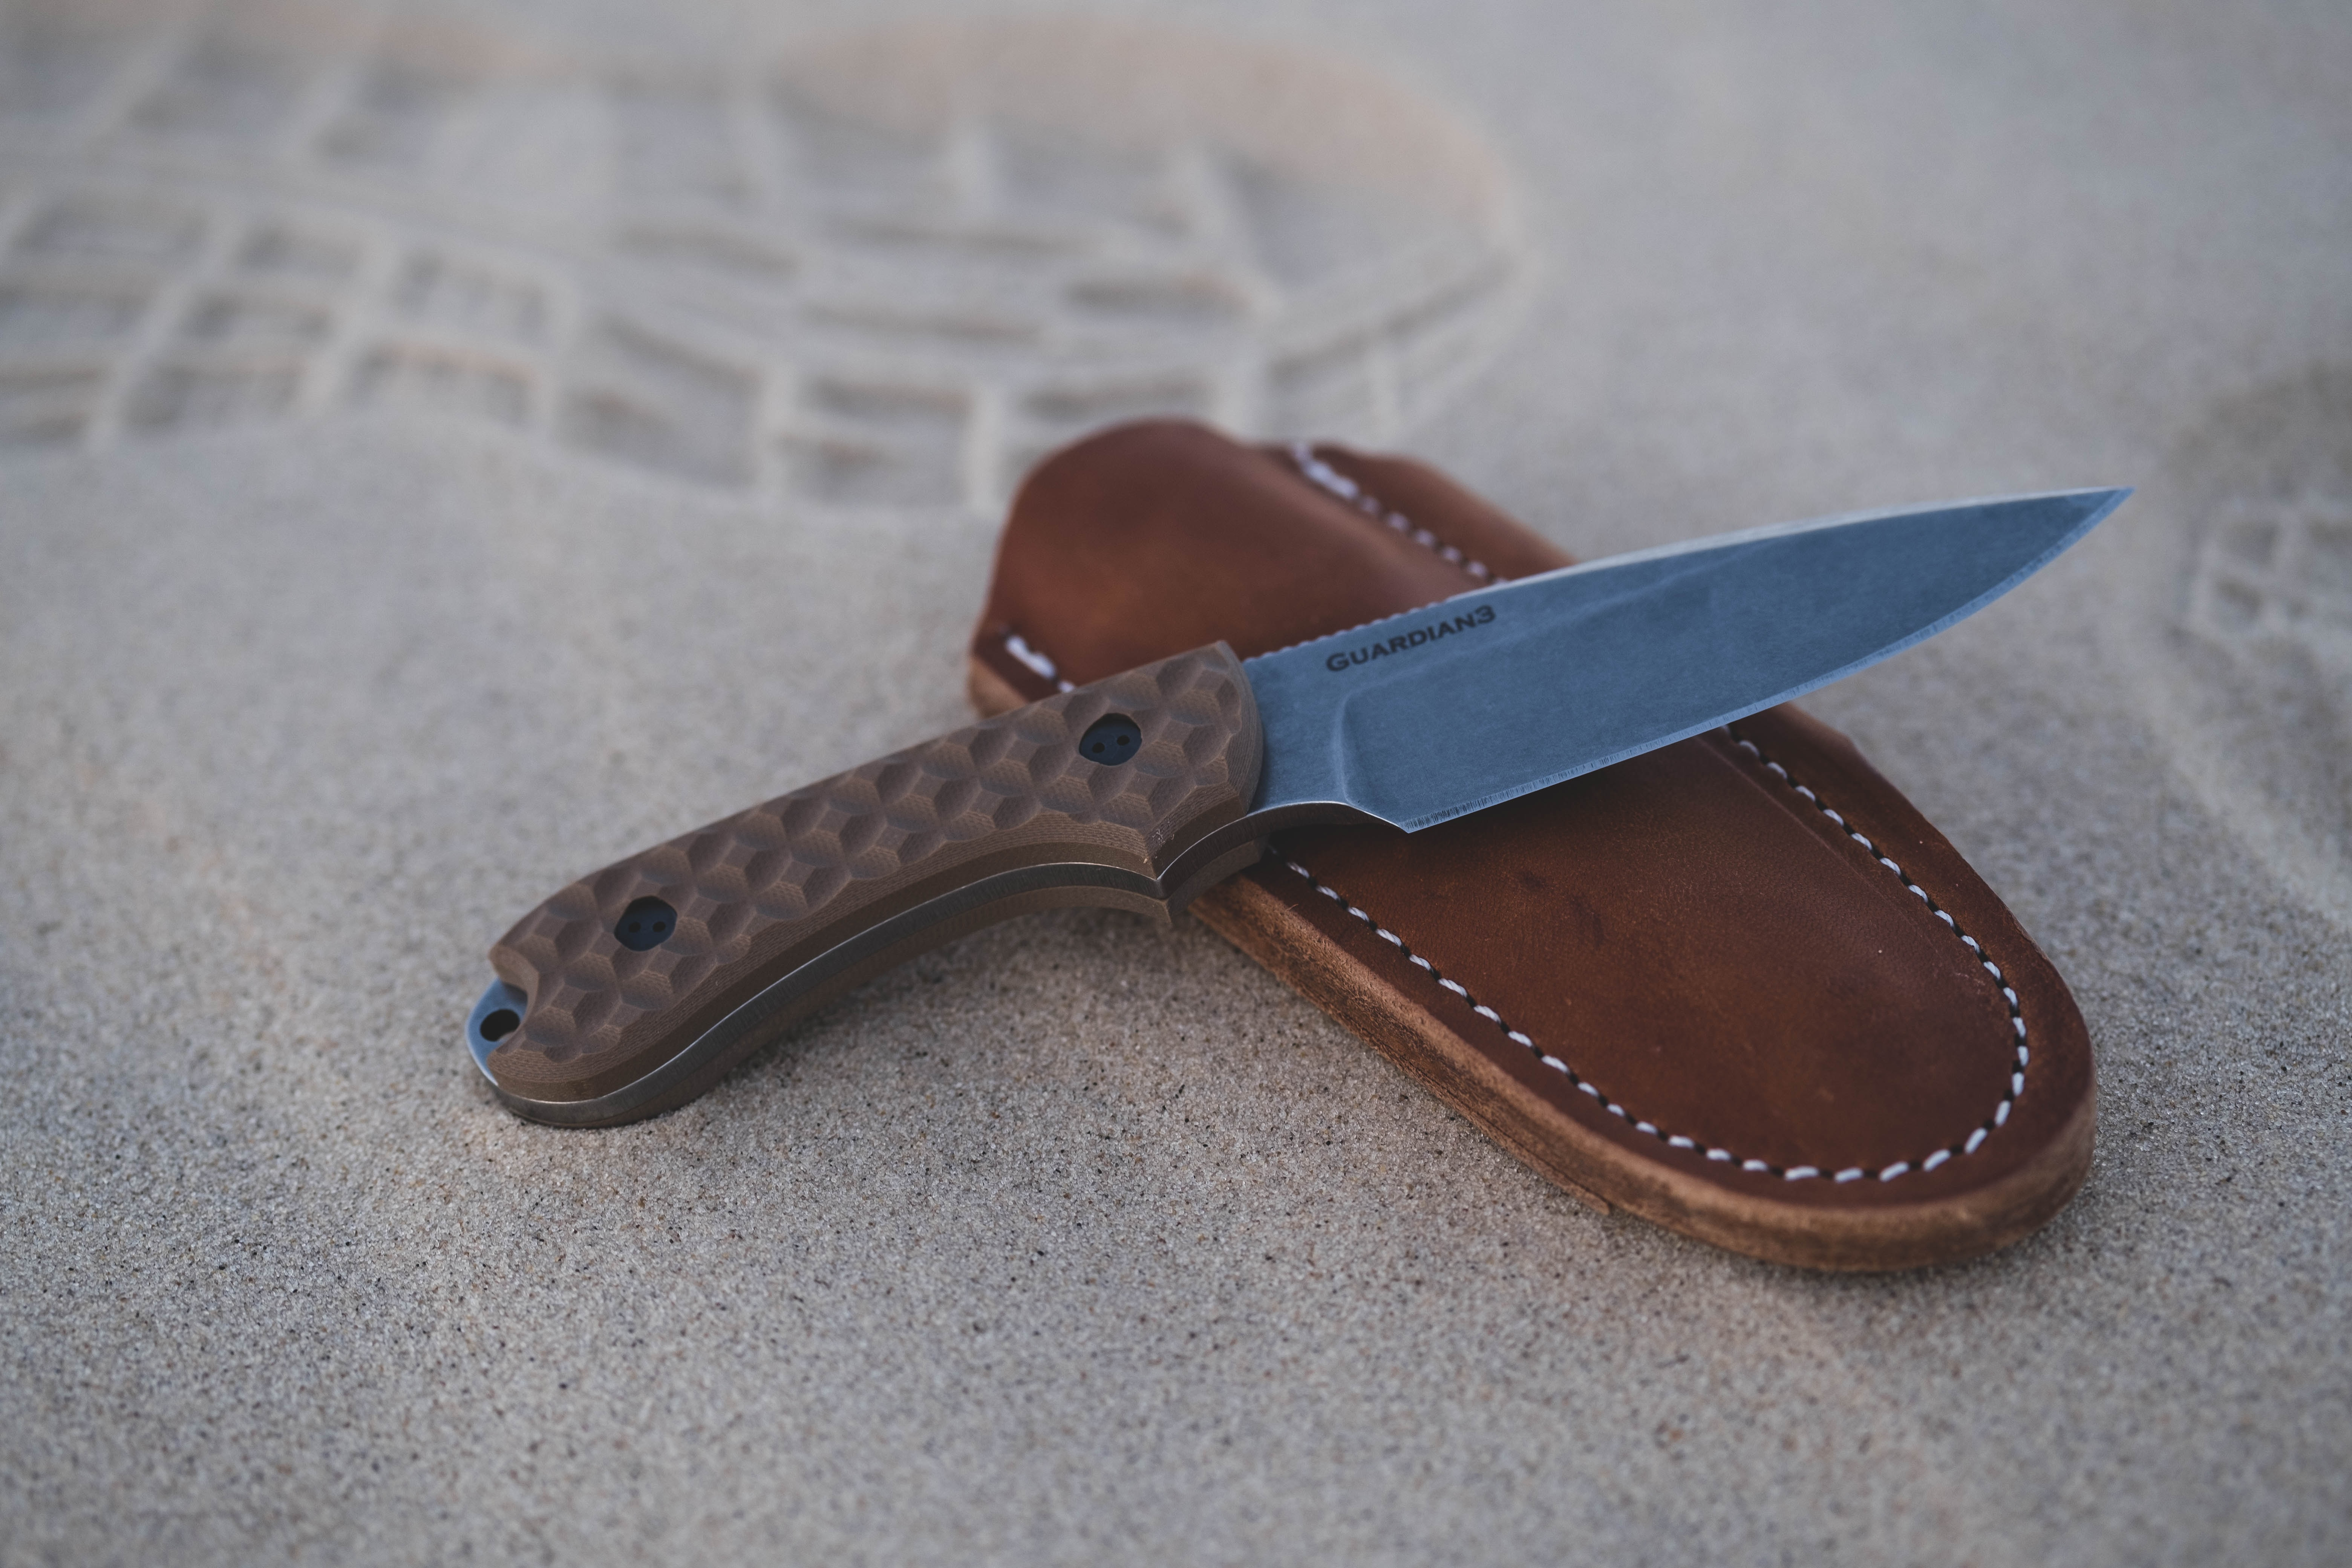knife: (357, 469, 2159, 1132)
